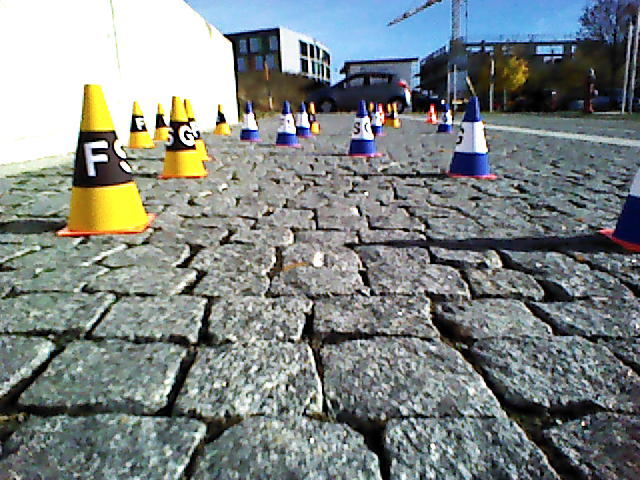bluecone: (454, 96, 490, 175), (350, 100, 375, 155), (279, 101, 297, 145), (242, 101, 260, 140)
yellowcone: (69, 83, 144, 229), (164, 97, 203, 176), (129, 102, 153, 147), (153, 103, 170, 139), (214, 105, 232, 134)
